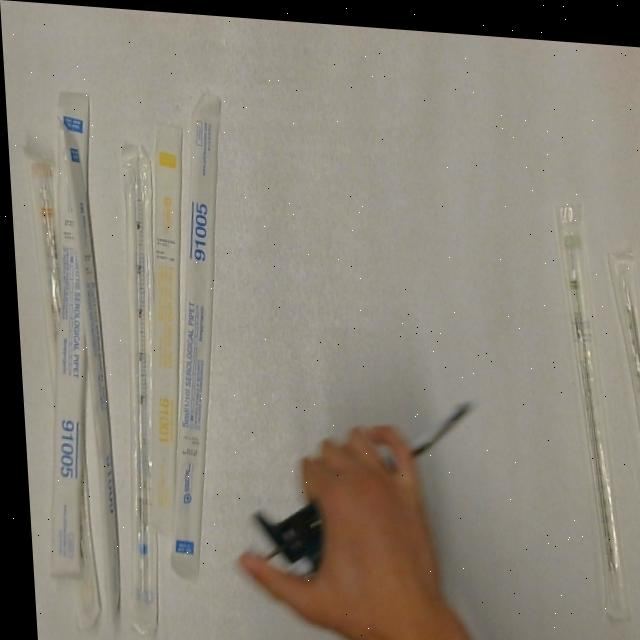Serelogical Pipet 1 mL - Sealed: (123, 114, 204, 542)
Serelogical Pipet 10 mL - Sealed: (25, 149, 70, 394)
Serelogical Pipet 2 mL - Sealed: (547, 187, 628, 618)
Serelogical Pipet 5 mL - Sealed: (141, 83, 246, 583), (20, 83, 114, 586), (99, 137, 176, 636), (55, 116, 118, 628)
Single Channel Pipettor: (219, 376, 491, 622)
